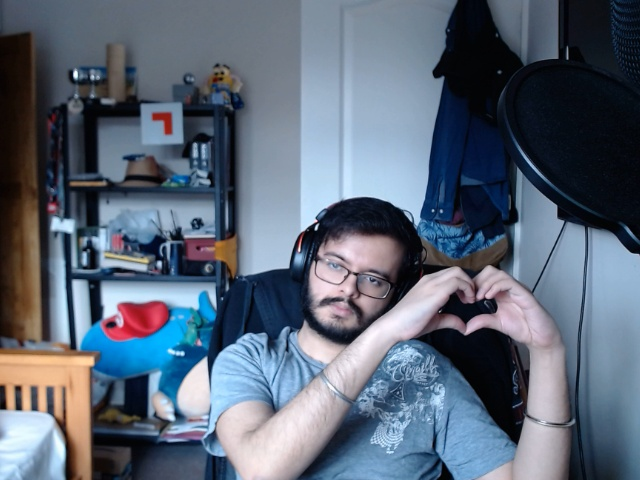Heart: (408, 258, 533, 347)
